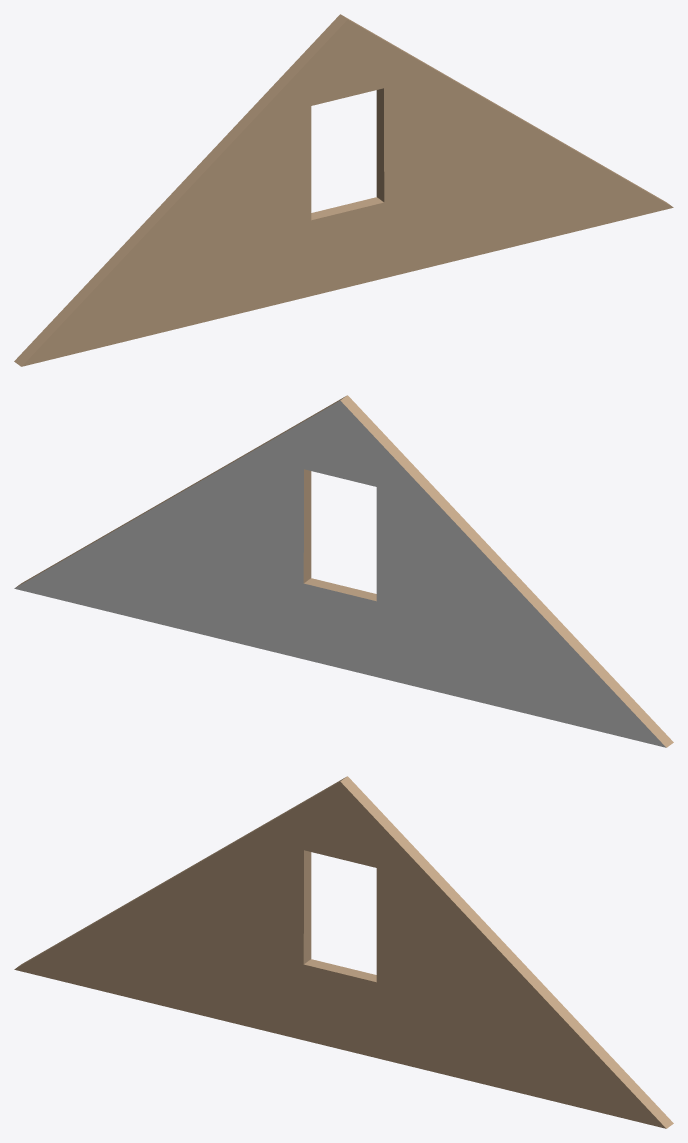
Rendered from Wall1_C2_19.fbx.
The picture shows the model from 3 angles, top to bottom: view 1: azimuth 30°, elevation 25°; view 2: azimuth 150°, elevation 25°; view 3: azimuth 330°, elevation 25°; orthographic projection.
Parts seen in each view (by area): view 1: Wall1_C2_19; view 2: Wall1_C2_19; view 3: Wall1_C2_19.
Boxes of the visible parts, <box> form: Wall1_C2_19: <box>14,14,673,366</box>; Wall1_C2_19: <box>14,395,673,747</box>; Wall1_C2_19: <box>14,776,673,1128</box>.
Bounding box in the file's own units: 765 × 300 × 15.
